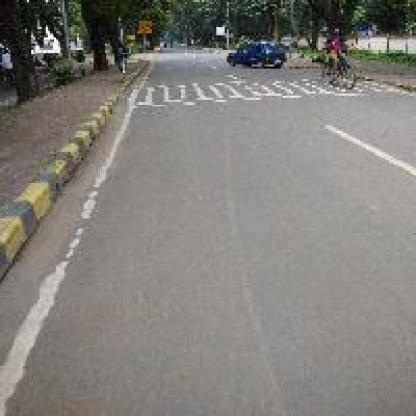Speed Bump: (136, 73, 320, 108)
